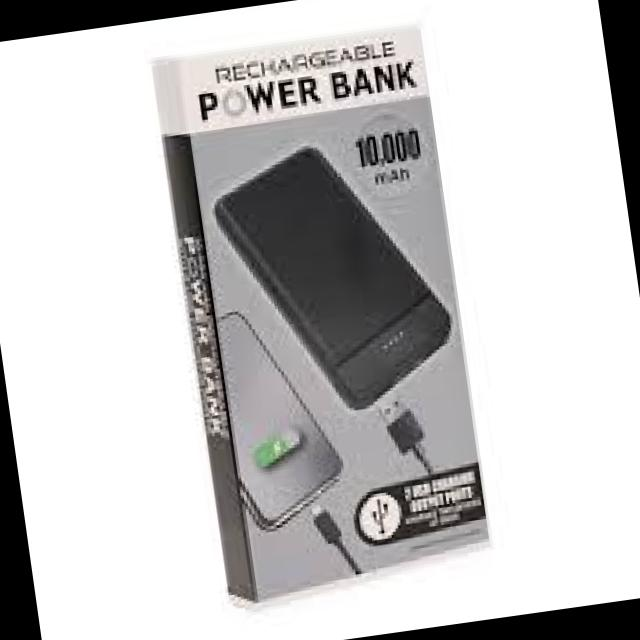portable-charger: (207, 123, 470, 438)
